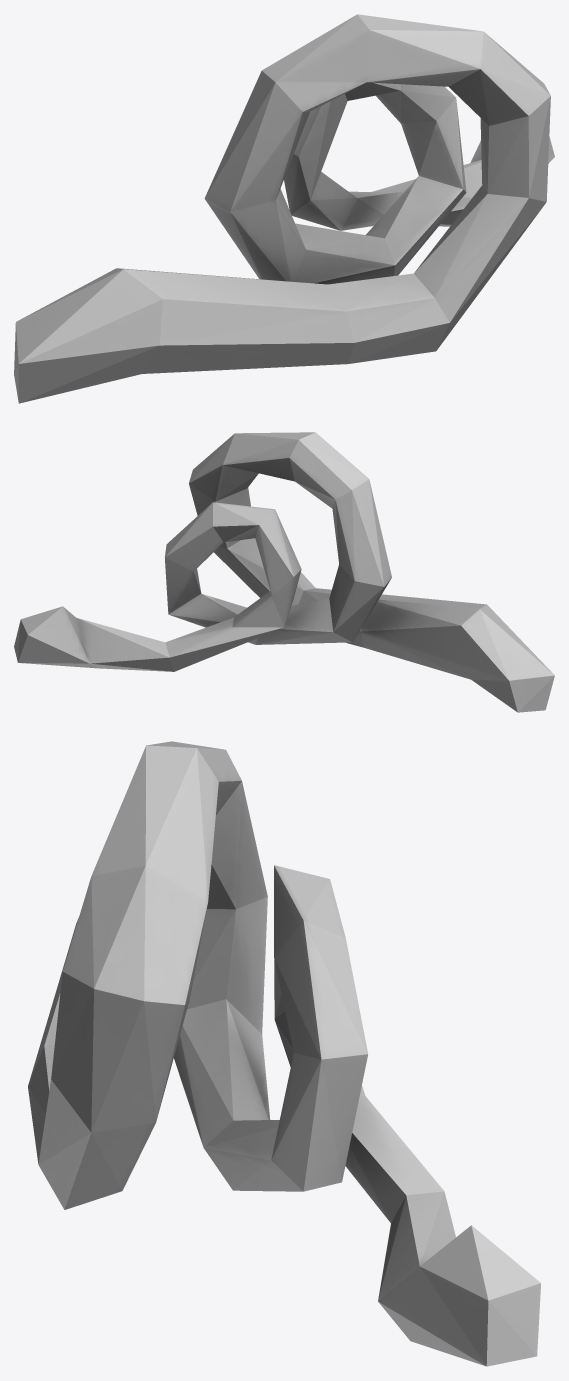
Rendered from Cloud_20.fbx.
The picture shows the model from 3 angles, top to bottom: view 1: azimuth 30°, elevation 25°; view 2: azimuth 150°, elevation 25°; view 3: azimuth 270°, elevation 25°; orthographic projection. The views are drawn at different scales.
Visible parts, largest first — view 1: Cloud_20; view 2: Cloud_20; view 3: Cloud_20.
Part boxes in pixels (bbox=[...]): Cloud_20: bbox=[14, 14, 554, 403]; Cloud_20: bbox=[14, 432, 554, 712]; Cloud_20: bbox=[28, 741, 540, 1366].
Size of the model in its own units: 77.17 by 36.08 by 37.26.
